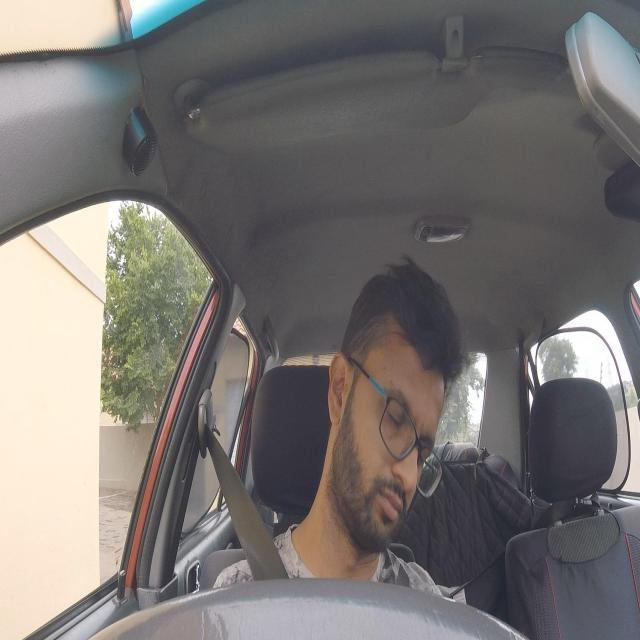close: (380, 384, 415, 438)
